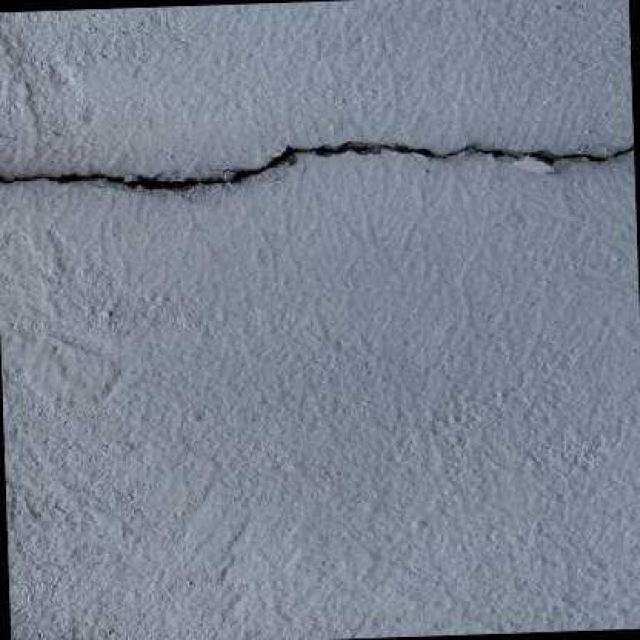D00: (0, 144, 634, 189)
